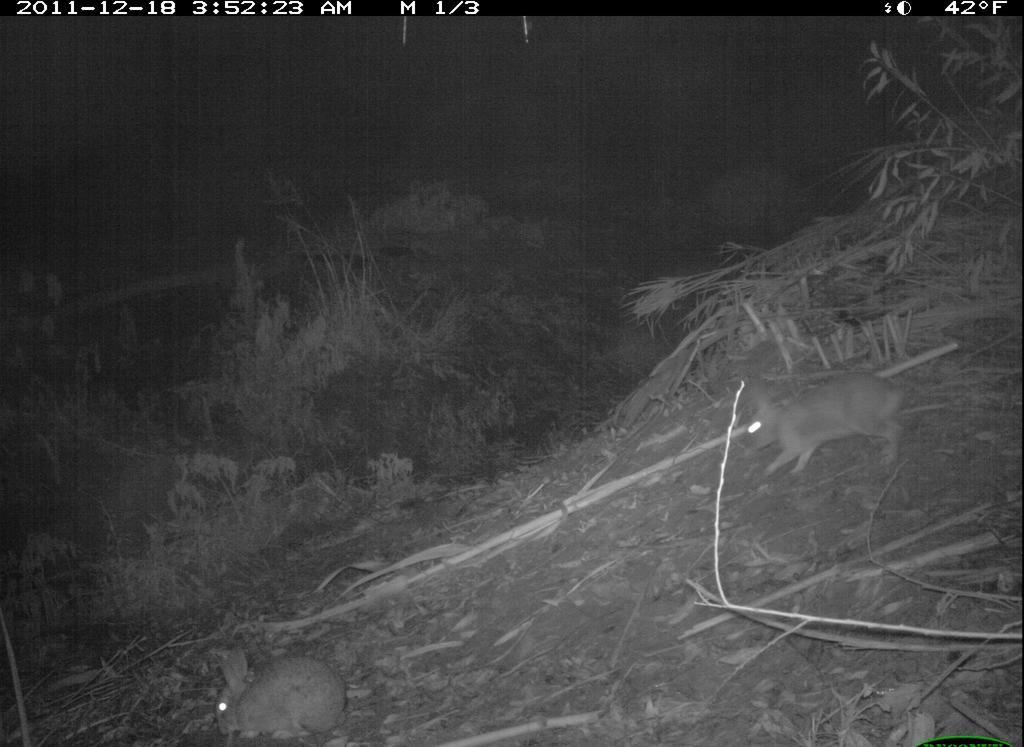rabbit: (723, 363, 925, 485), (205, 638, 357, 745)
